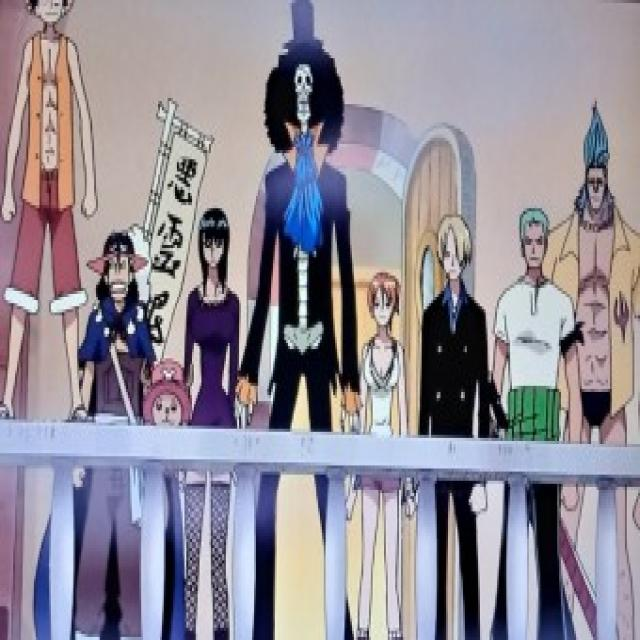Blook: (256, 29, 346, 172)
Chyopa: (131, 349, 203, 436)
Franky: (573, 100, 619, 223)
Luffy: (16, 0, 77, 43)
Nami: (366, 270, 404, 332)
NicoRobin: (195, 199, 238, 311)
Sangdi: (432, 208, 477, 291)
Usopp: (86, 220, 149, 318)
Zoro: (516, 207, 554, 281)
